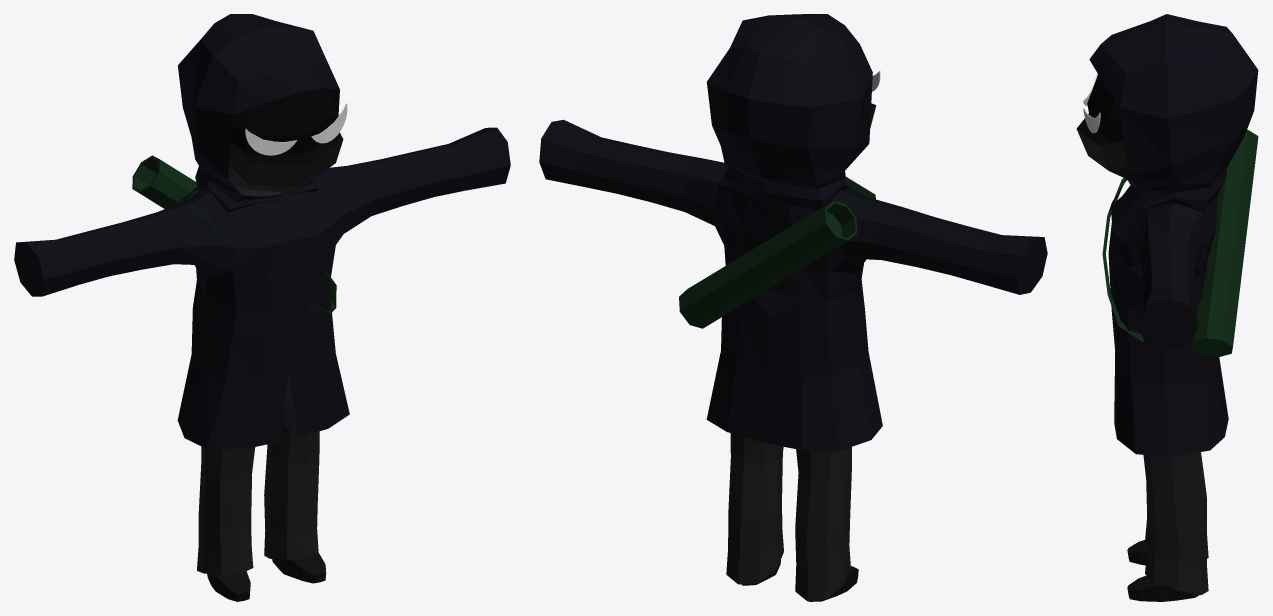
File: ninja_final.dae
3 renders of one model, left to right at view 1: azimuth 30°, elevation 25°; view 2: azimuth 150°, elevation 25°; view 3: azimuth 270°, elevation 25°, orthographic. The views are drawn at different scales.
Parts seen in each view (by area): view 1: Plane_004, Plane_002, Plane_003, Cylinder, Plane_005, Circle; view 2: Plane_004, Plane_002, Cylinder; view 3: Plane_004, Plane_002, Cylinder, Plane_003, Plane_005, Cylinder_003, Circle.
Part boxes in pixels (left/top/right/bottom): Plane_004: left=14, top=14, right=510, bottom=449; Plane_002: left=197, top=373, right=319, bottom=574; Plane_003: left=228, top=88, right=343, bottom=196; Cylinder: left=132, top=155, right=197, bottom=208; Plane_005: left=207, top=552, right=326, bottom=601; Circle: left=245, top=103, right=347, bottom=155; Plane_004: left=539, top=14, right=1047, bottom=451; Plane_002: left=726, top=433, right=851, bottom=601; Cylinder: left=679, top=200, right=857, bottom=328; Plane_004: left=1089, top=14, right=1258, bottom=456; Plane_002: left=1143, top=452, right=1208, bottom=594; Cylinder: left=1192, top=129, right=1258, bottom=356; Plane_003: left=1076, top=74, right=1132, bottom=181; Plane_005: left=1127, top=540, right=1199, bottom=601; Cylinder_003: left=1102, top=178, right=1194, bottom=341; Circle: left=1083, top=73, right=1100, bottom=133.
Bounding box in the file's own units: 4.66 × 1.55 × 5.21.
